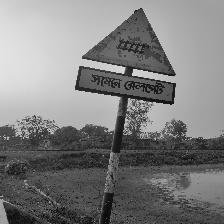Rail-crossing: (78, 7, 178, 105)
